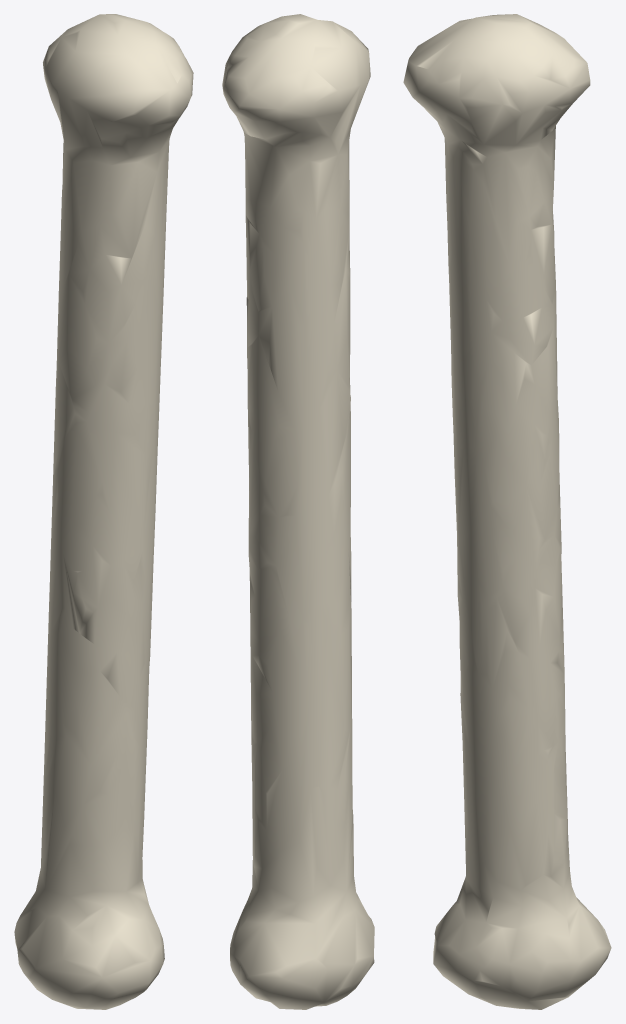
The model's file is radius_l.glb.
The picture shows the model from 3 angles, left to right: view 1: azimuth 30°, elevation 25°; view 2: azimuth 150°, elevation 25°; view 3: azimuth 270°, elevation 25°; orthographic projection. The views are drawn at different scales.
Visible parts, largest first — view 1: geometry_0; view 2: geometry_0; view 3: geometry_0.
Boxes of the visible parts, x1,y1,x2,y2 form: geometry_0: (14, 14, 193, 1009); geometry_0: (222, 14, 374, 1009); geometry_0: (403, 14, 611, 1009).
Bounding box in the file's own units: 0.1248 × 0.819 × 0.1557.
